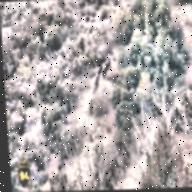boar: (87, 97, 95, 115), (98, 64, 108, 76), (93, 75, 101, 90), (97, 61, 102, 79), (103, 52, 111, 63)
